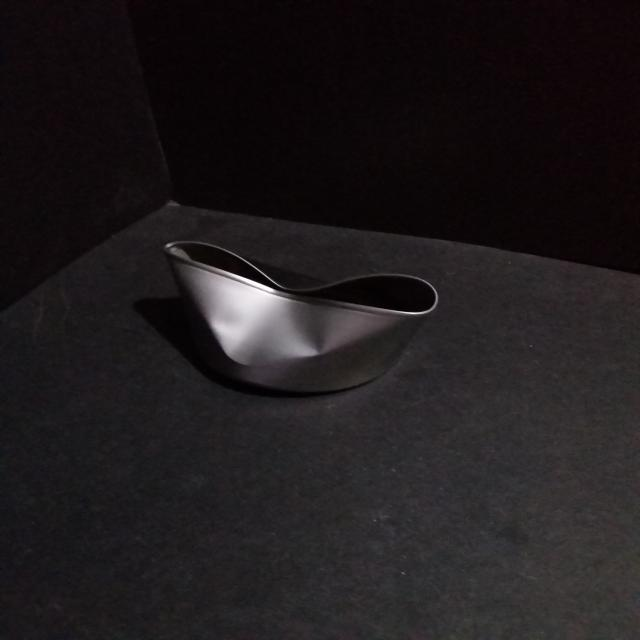metal-can: (163, 236, 437, 402)
